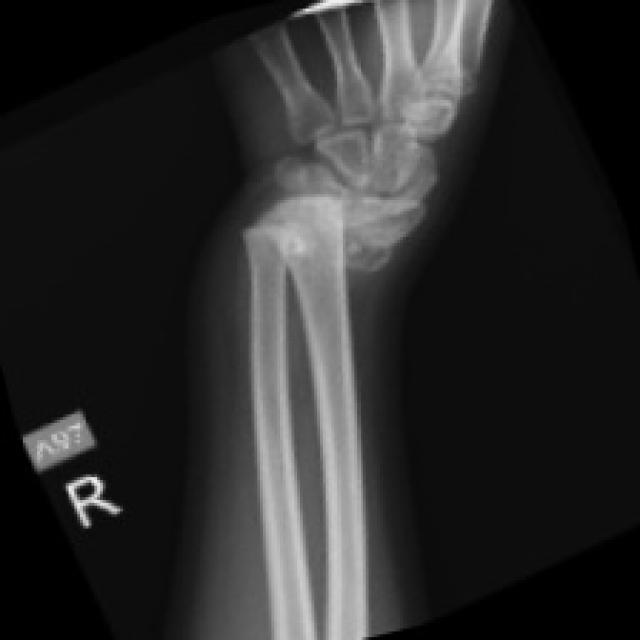fracture: (222, 158, 368, 288)
